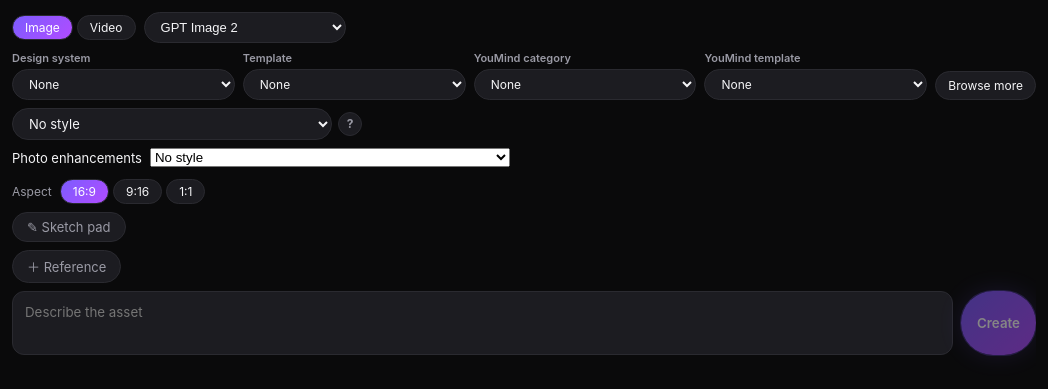
Test case: PromptComposer Open Design integration › submits Seedance 2.5 controls and corrects stale settings after switching to Veo
The width and height of the screenshot is (1048, 389).
Click the button "Video": (106, 28) [77,15,136,40]
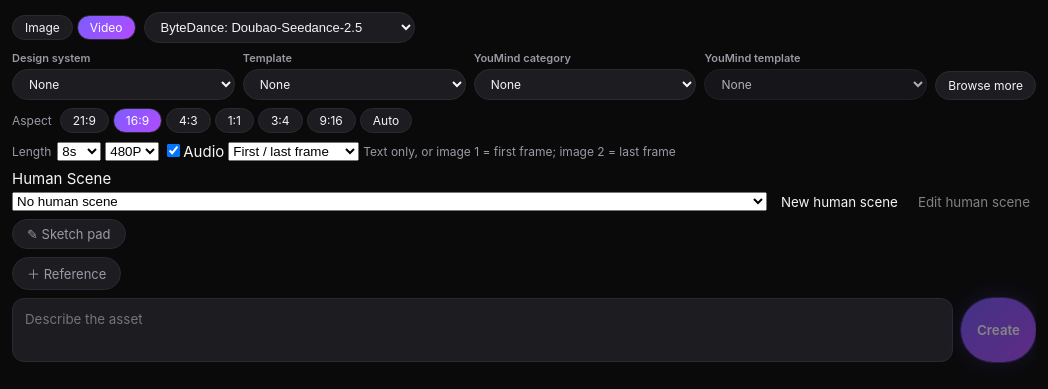
Click the button "21:9": (84, 120) [60,108,109,133]
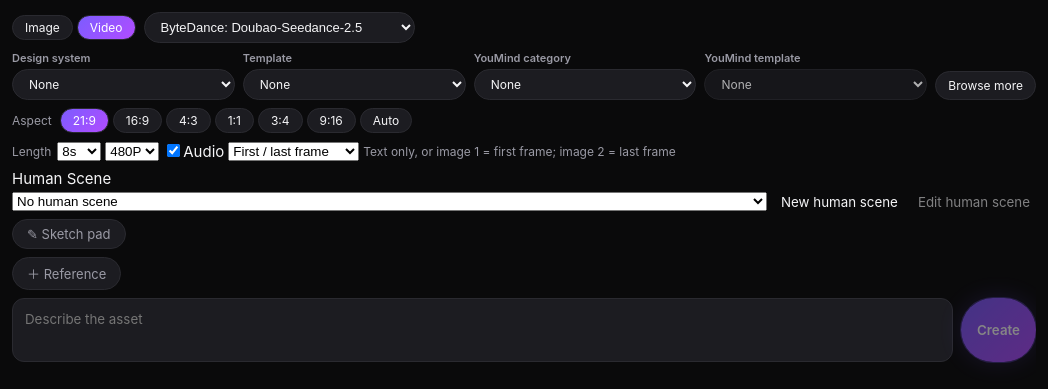
Select "30s" in the dropdown labelled "Length": (79, 151) [57,142,101,160]
Select "720P" in the dropdown named "Video resolution": (132, 151) [105,142,159,160]
Click the checkbox labelled "Audio": (174, 150) [167,144,180,157]
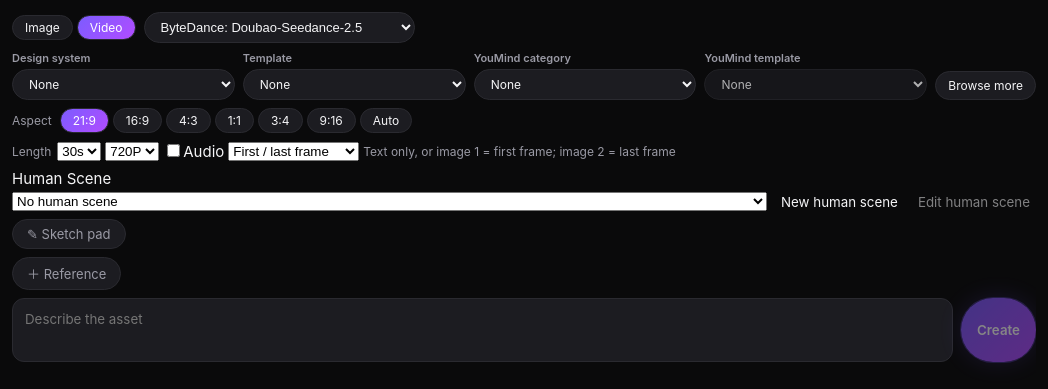
In the text box with placeholder "Describe the asset": (482, 330) [12,298,953,362], type "Long shot"
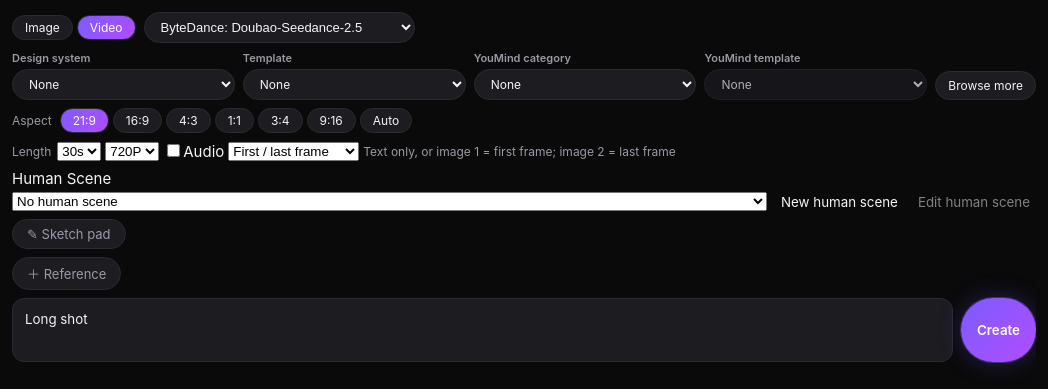
Click the button "Create": (998, 330) [961,298,1036,362]
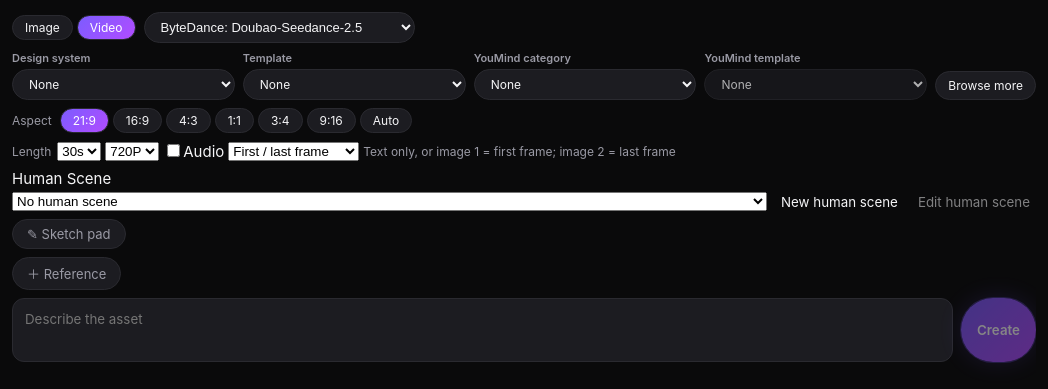
Select "Google: Veo 3.1" in the dropdown titled "video model": (279, 28) [144,12,415,43]
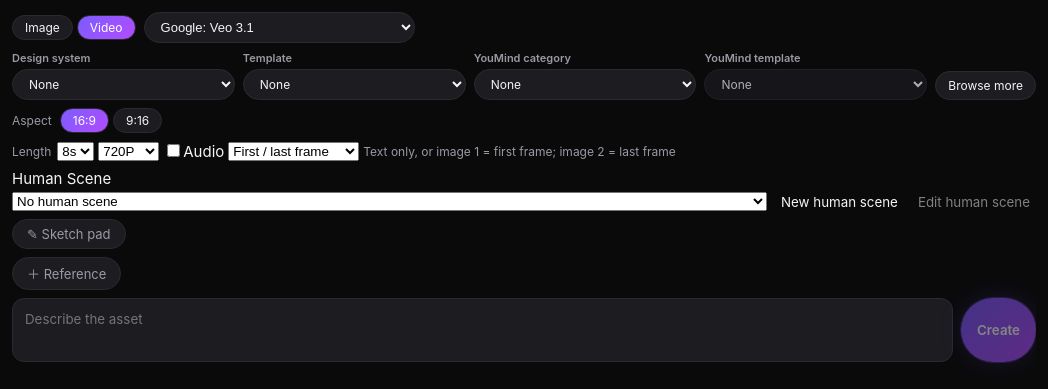
Expected: the button "21:9" is gone
